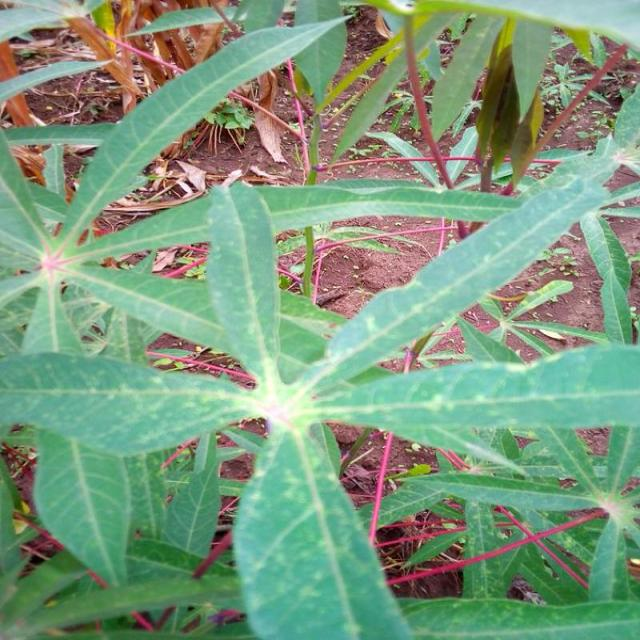cassava leaf: (2, 4, 640, 637), (232, 418, 413, 638)
